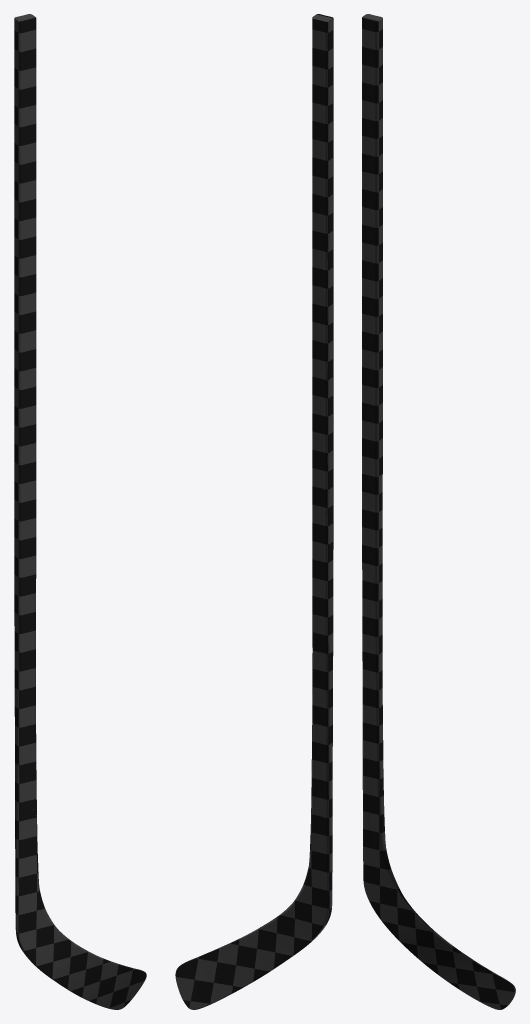
The model's file is P02-SBT.glb.
3 views of the same model, side by side, from view 1: azimuth 30°, elevation 25°; view 2: azimuth 150°, elevation 25°; view 3: azimuth 330°, elevation 25° (orthographic). The views are drawn at different scales.
Parts seen in each view (by area): view 1: geometry_0; view 2: geometry_0; view 3: geometry_0.
Boxes of the visible parts, bbox=[...] form: geometry_0: bbox=[14, 14, 146, 1009]; geometry_0: bbox=[175, 14, 333, 1009]; geometry_0: bbox=[362, 14, 515, 1009].
Bounding box in the file's own units: 243 × 1650 × 67.58.
Materials: 1 (1 with a texture image).
